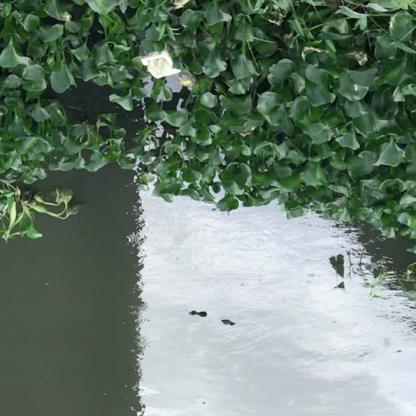Plastic: (175, 66, 198, 90)
Trash: (142, 50, 178, 80)
